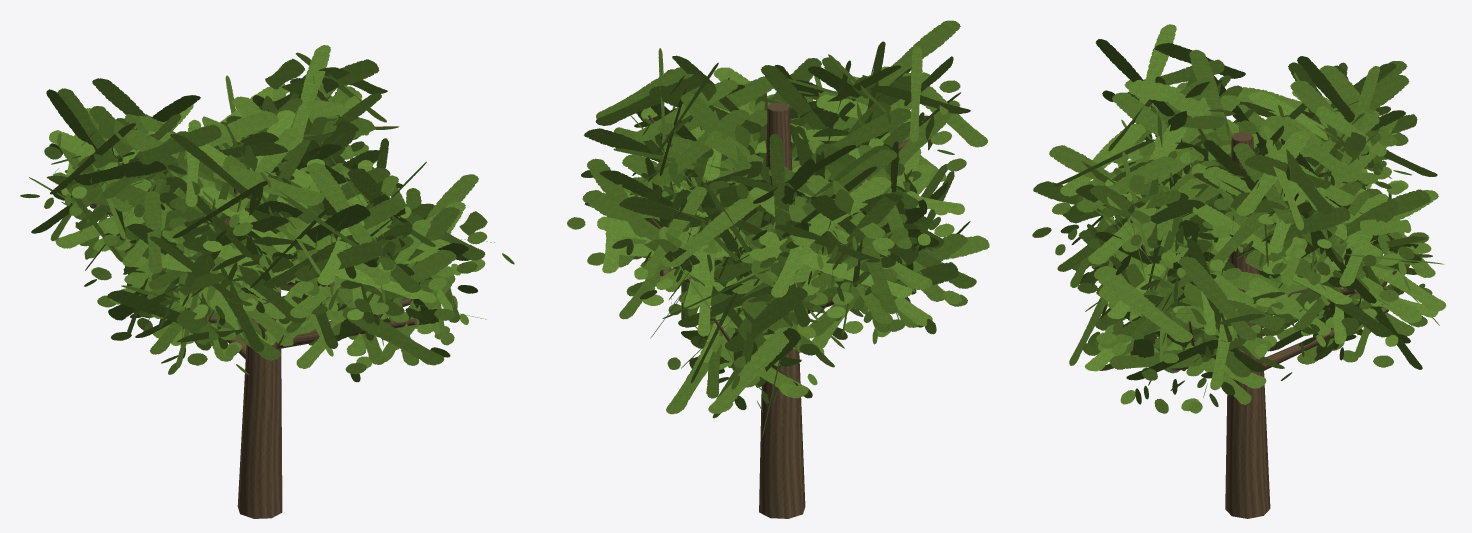
3 views of the same model, side by side, from view 1: azimuth 30°, elevation 25°; view 2: azimuth 150°, elevation 25°; view 3: azimuth 270°, elevation 25° (orthographic). The views are drawn at different scales.
Parts seen in each view (by area): view 1: oak-leaf, oak-bark; view 2: oak-leaf, oak-bark; view 3: oak-leaf, oak-bark.
Boxes of the visible parts, x1,y1,x2,y2 form: oak-leaf: (20,45,514,382); oak-bark: (91,92,417,518); oak-leaf: (567,20,989,436); oak-bark: (648,102,908,518); oak-leaf: (1032,24,1446,413); oak-bark: (1113,132,1404,518).
Size of the model in its own units: 8.03 by 9.03 by 7.99.
Materials: 2 (2 with a texture image).
